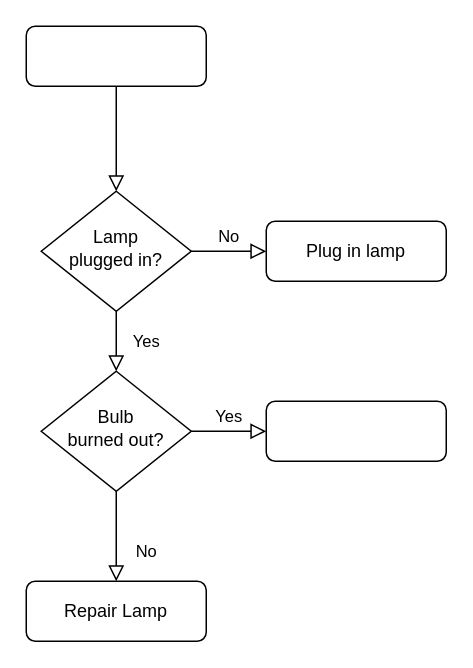
This 473x668 diagram has some shape labels left out. The shapes that lost their labels are listed below. From the top down, each one's centre as x and y in pixels, then its label:
point (115, 55): Start
point (355, 430): Replace Bulb
